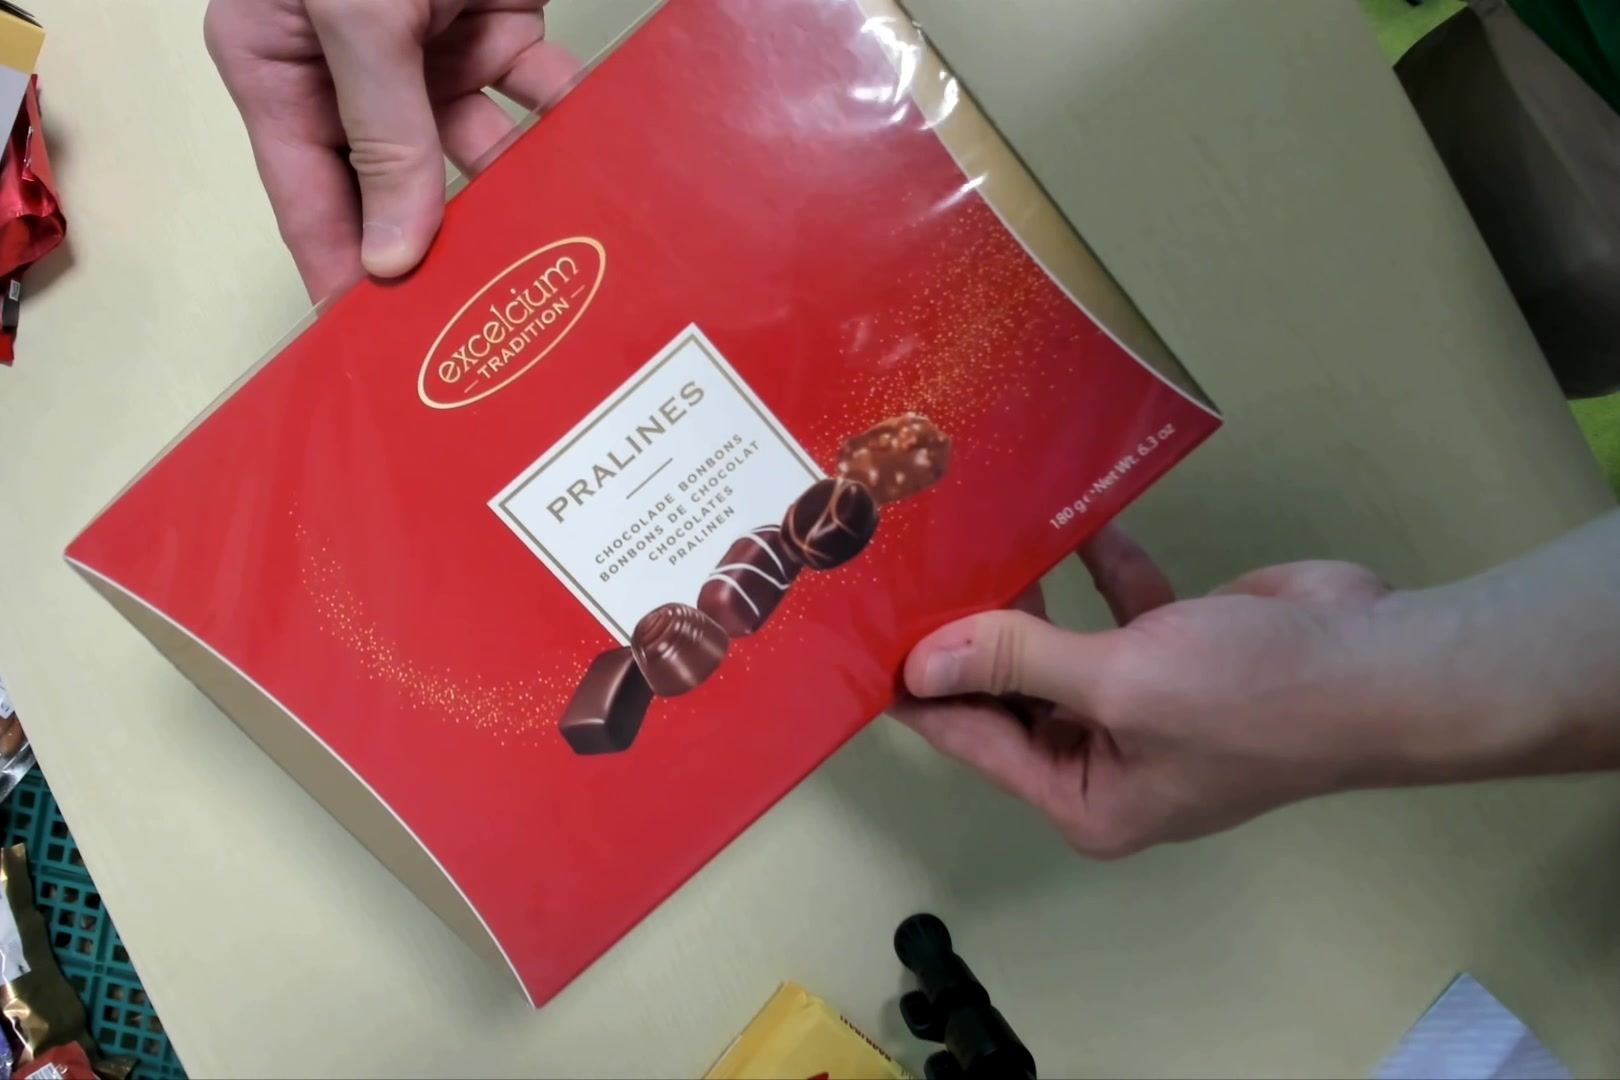SweetsChocolatesOthers_100-199g_NonHalal_NonHealthy: (67, 1, 1233, 1009)
